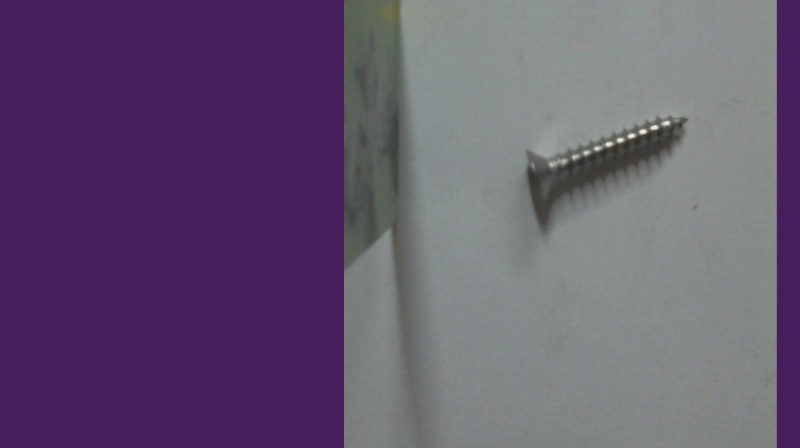S001: (522, 112, 689, 198)
